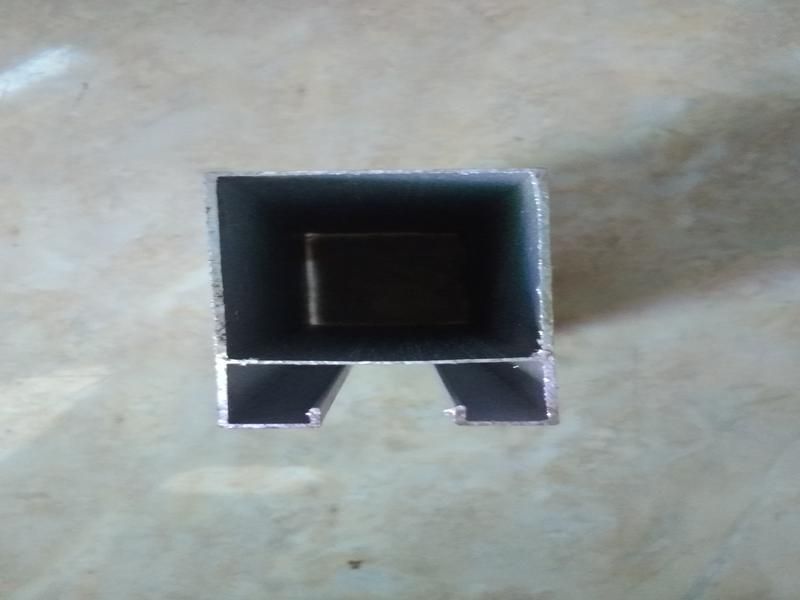Aluminium_1: (172, 147, 593, 452)
